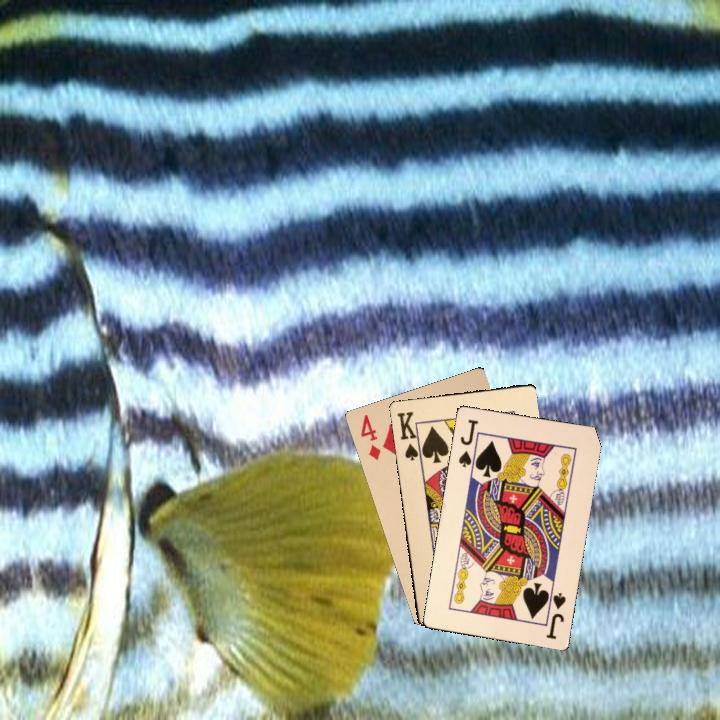4d: (357, 410, 384, 463)
Js: (541, 585, 569, 641), (454, 415, 483, 469)
Ks: (393, 408, 424, 461)
